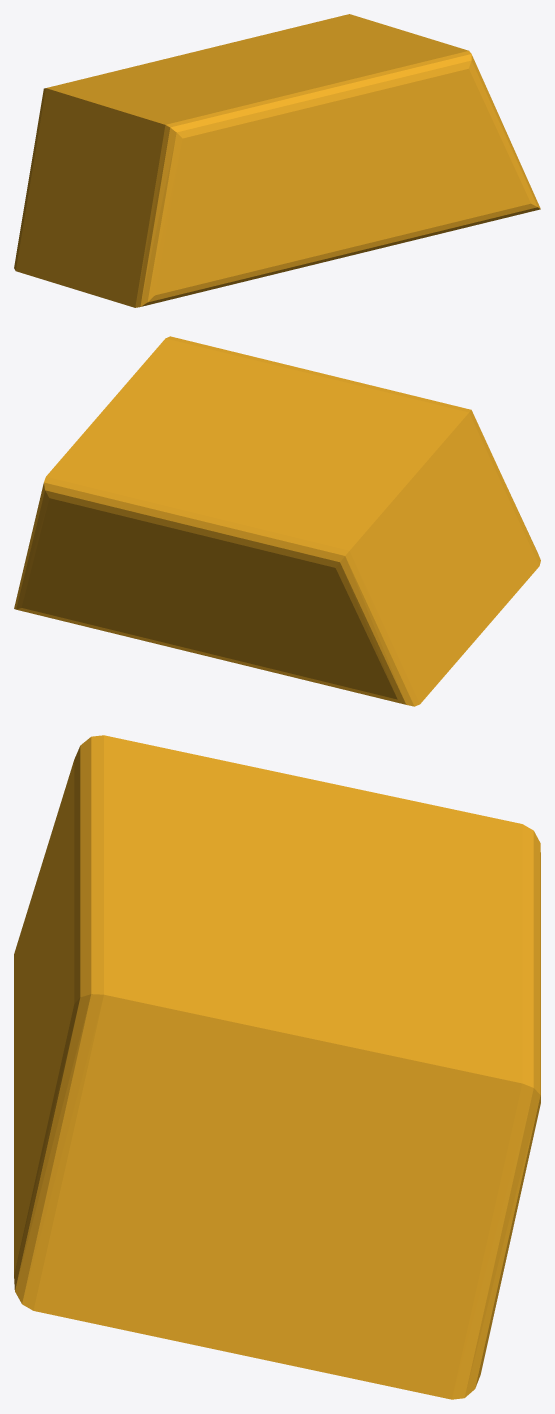
The model's file is resource-gold.glb.
3 views of the same model, one above another, from view 1: azimuth 30°, elevation 25°; view 2: azimuth 150°, elevation 25°; view 3: azimuth 270°, elevation 25° (orthographic). The views are drawn at different scales.
Visible parts, largest first — view 1: resource_gold_ingot_317; view 2: resource_gold_ingot_317; view 3: resource_gold_ingot_317.
Part boxes in pixels (x1,y1,x2,y2): resource_gold_ingot_317: (14,14,540,307); resource_gold_ingot_317: (14,336,540,706); resource_gold_ingot_317: (14,735,540,1399).
Size of the model in its own units: 1.98 by 0.9671 by 1.28.
